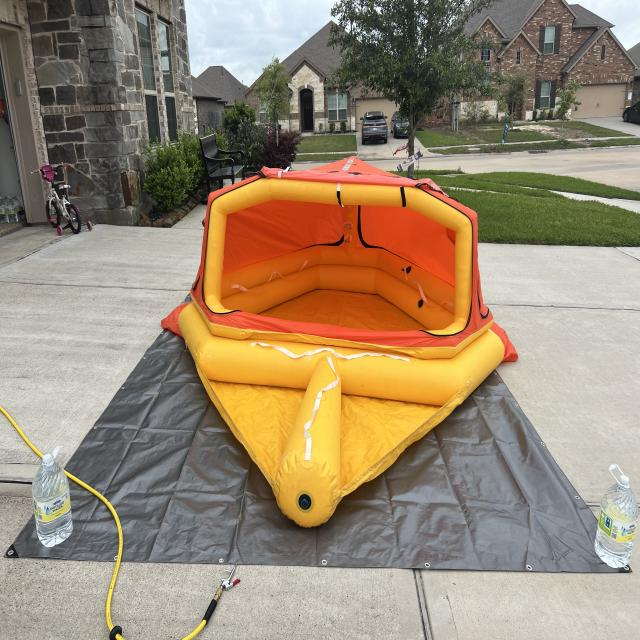Multi-person_life_raft: (161, 154, 518, 530)
